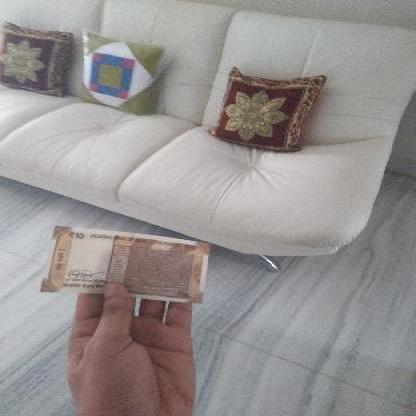New10Back: (43, 230, 212, 301)
